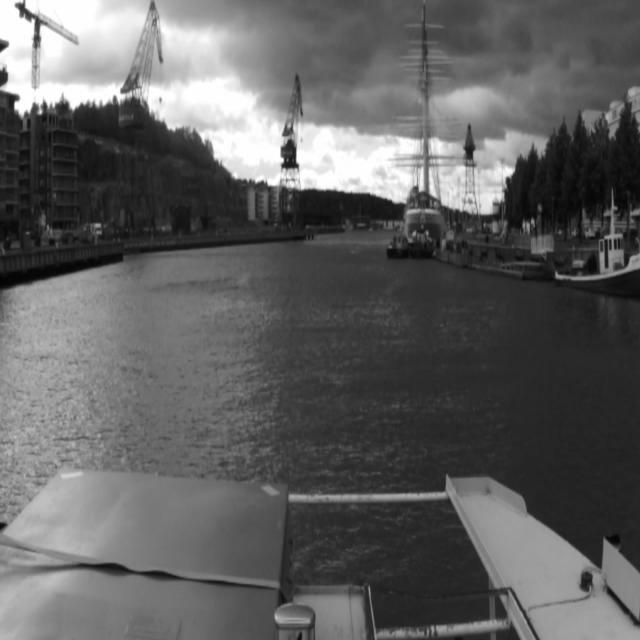ship: (388, 18, 478, 220), (554, 203, 638, 297), (412, 228, 434, 256), (388, 231, 410, 257)
